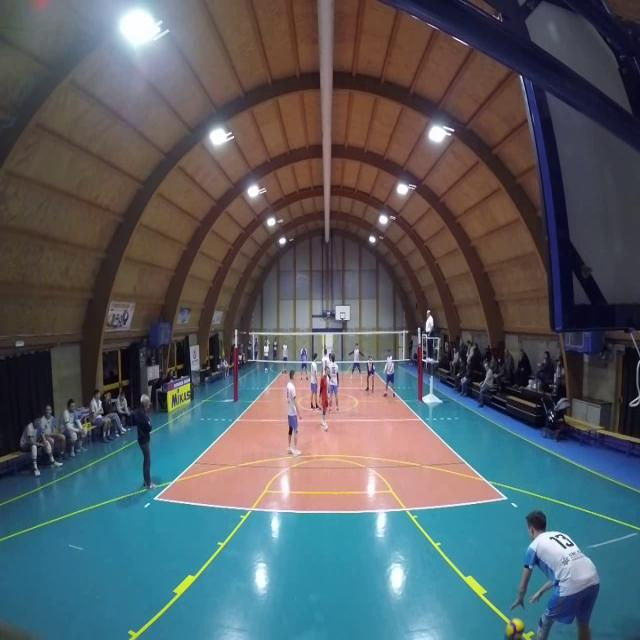Volleyball: (506, 618, 526, 638)
